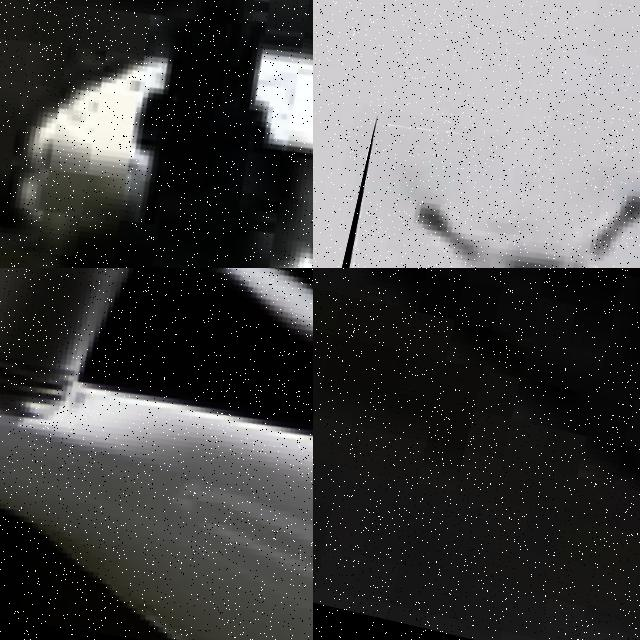0: (0, 0, 313, 268)
drone: (0, 268, 313, 640), (331, 114, 640, 268)
